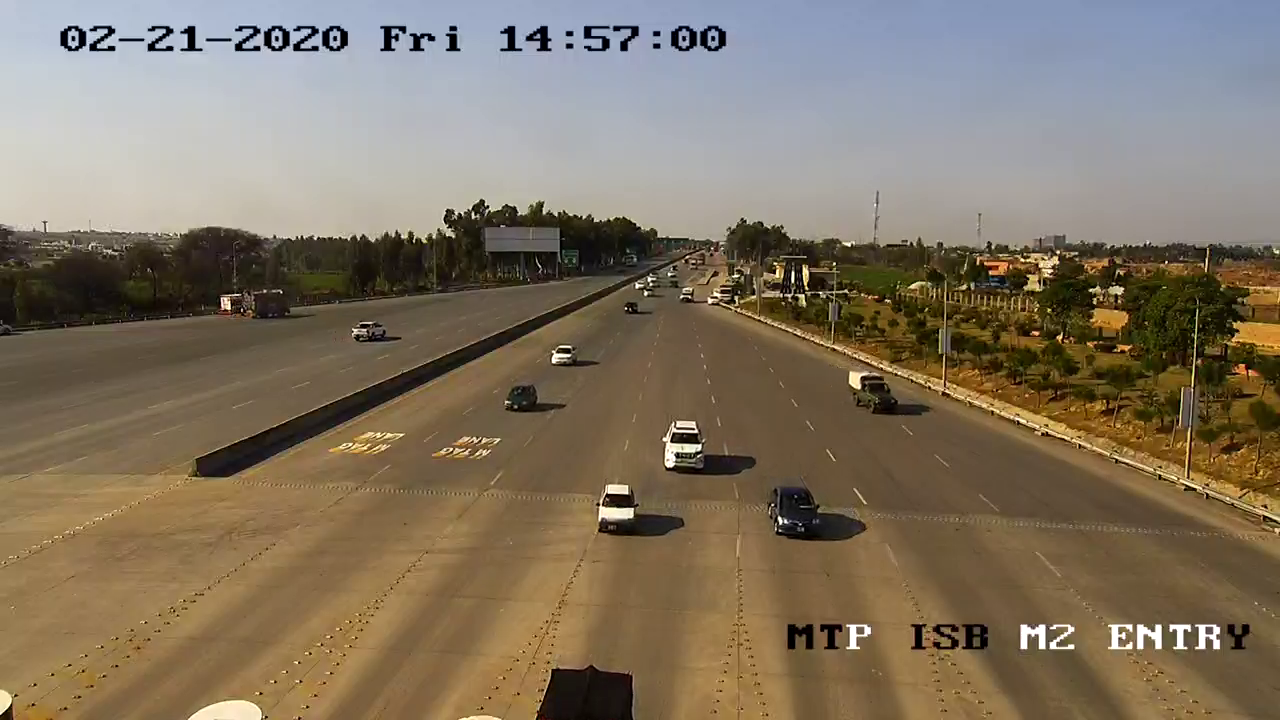f1: (752, 480, 834, 550), (585, 476, 648, 551), (655, 408, 712, 480)
